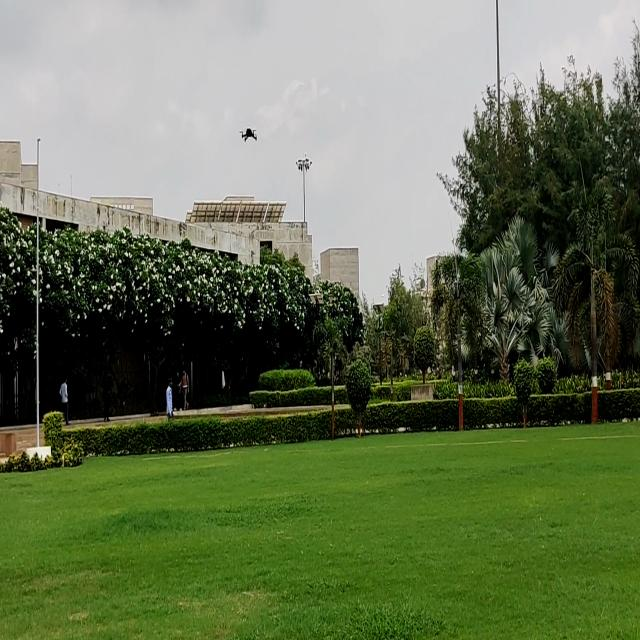drone: (238, 125, 260, 148)
